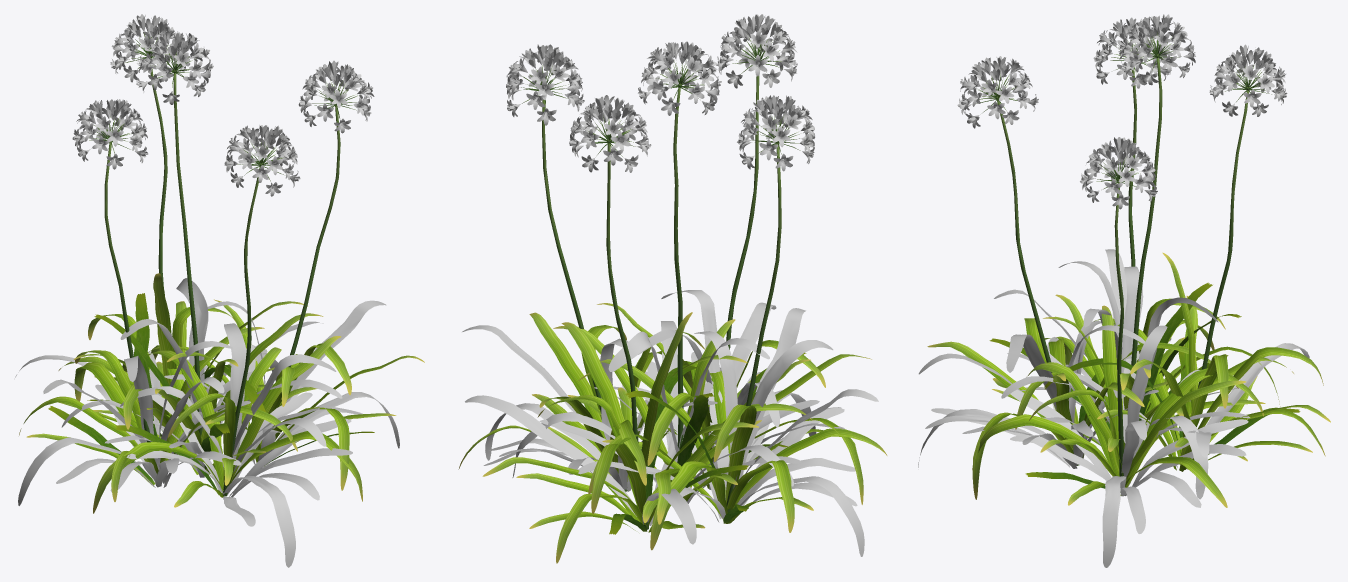
The model's file is agapanthe-2.gltf.
The picture shows the model from 3 angles, left to right: view 1: azimuth 30°, elevation 25°; view 2: azimuth 150°, elevation 25°; view 3: azimuth 270°, elevation 25°; orthographic projection. The views are drawn at different scales.
Parts seen in each view (by area): view 1: agapanthe-2; view 2: agapanthe-2; view 3: agapanthe-2.
Part boxes in pixels (box(x1,y1,x2,y2)): agapanthe-2: box(15, 14, 424, 567); agapanthe-2: box(458, 14, 887, 563); agapanthe-2: box(918, 14, 1330, 567).
Bounding box in the file's own units: 0.9002 × 1.05 × 0.8726.
